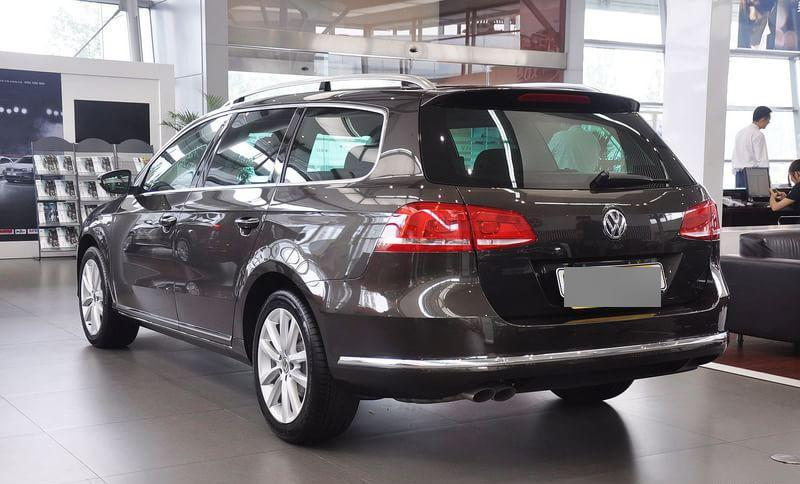Wagon: (76, 70, 732, 443)
